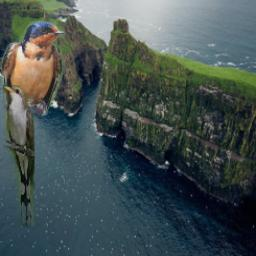Cuckoo: (3, 85, 34, 228)
Swallow: (2, 20, 66, 116)
